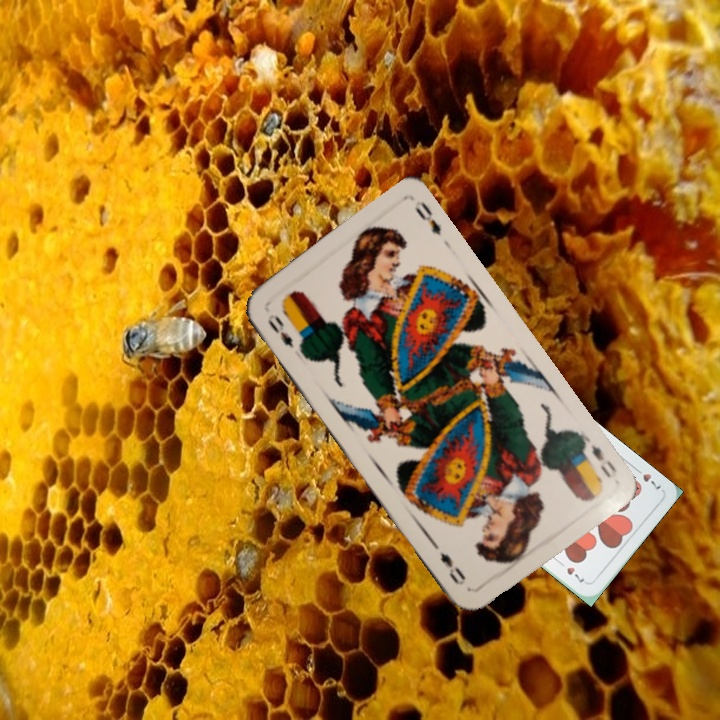EO: (263, 309, 297, 351), (586, 440, 620, 481)
H7: (630, 463, 664, 492)
